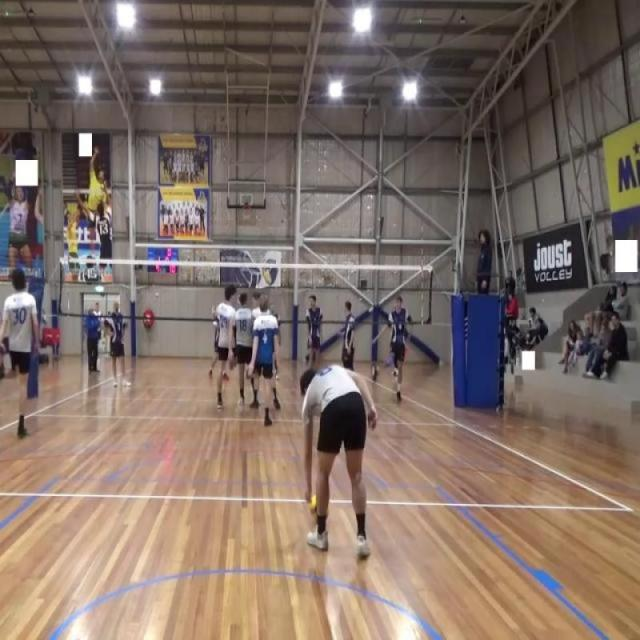volleyball: (308, 494, 331, 522)
